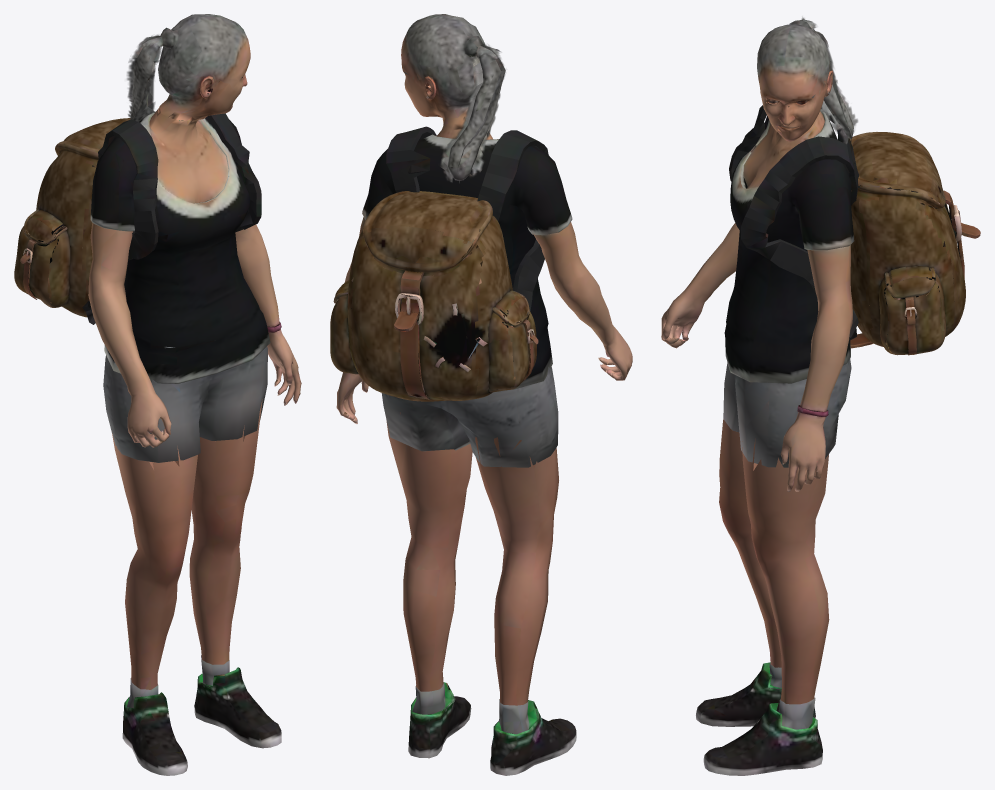
3 renders of one model, left to right at view 1: azimuth 30°, elevation 25°; view 2: azimuth 150°, elevation 25°; view 3: azimuth 270°, elevation 25°, orthographic. The views are drawn at different scales.
Parts seen in each view (by area): view 1: p02781; view 2: p02781; view 3: p02781.
Part boxes in pixels (left/top/right/bottom): p02781: left=14, top=14, right=301, bottom=775; p02781: left=330, top=14, right=632, bottom=775; p02781: left=661, top=17, right=980, bottom=775.
Size of the model in its own units: 0.5382 by 1.57 by 0.6237.
1 material, 1 textured.
